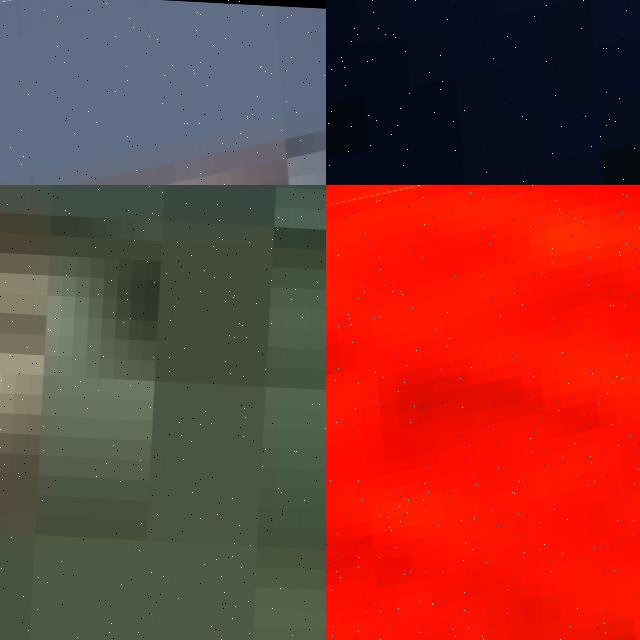0: (0, 0, 326, 185)
drone: (326, 185, 640, 640), (326, 0, 640, 185)
